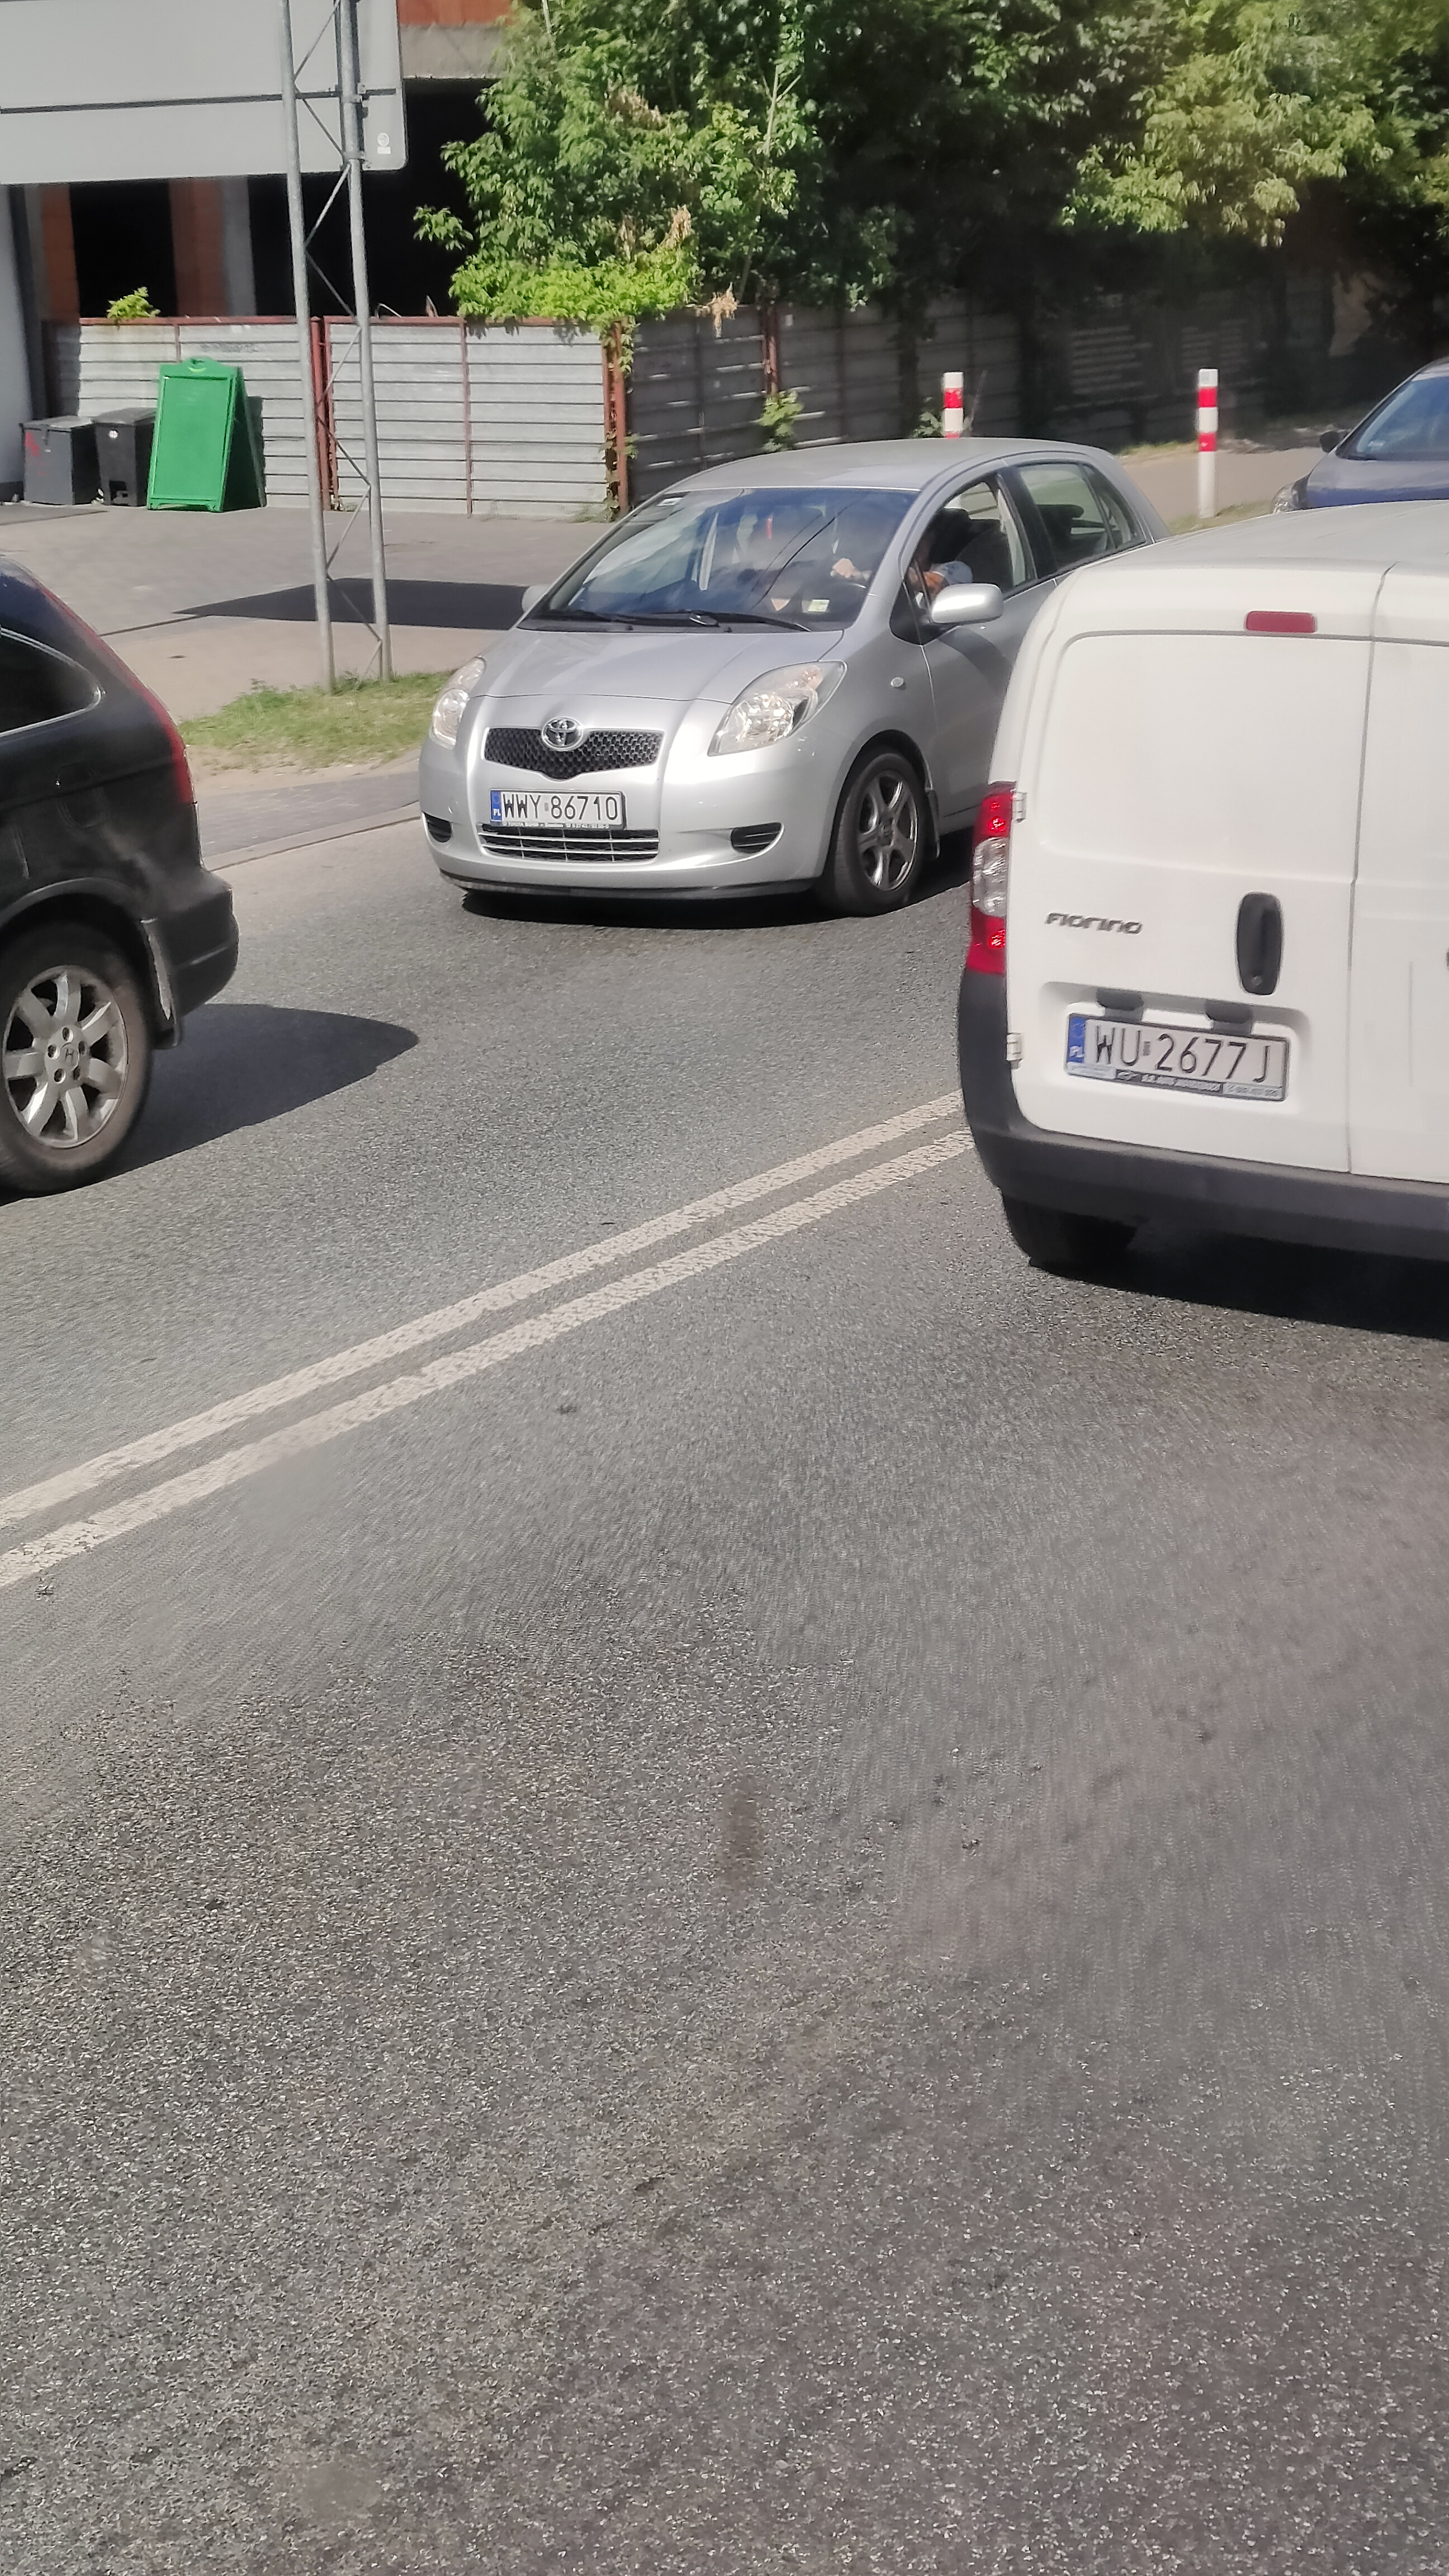number_plate: (1064, 1014, 1288, 1106), (489, 789, 626, 831)
